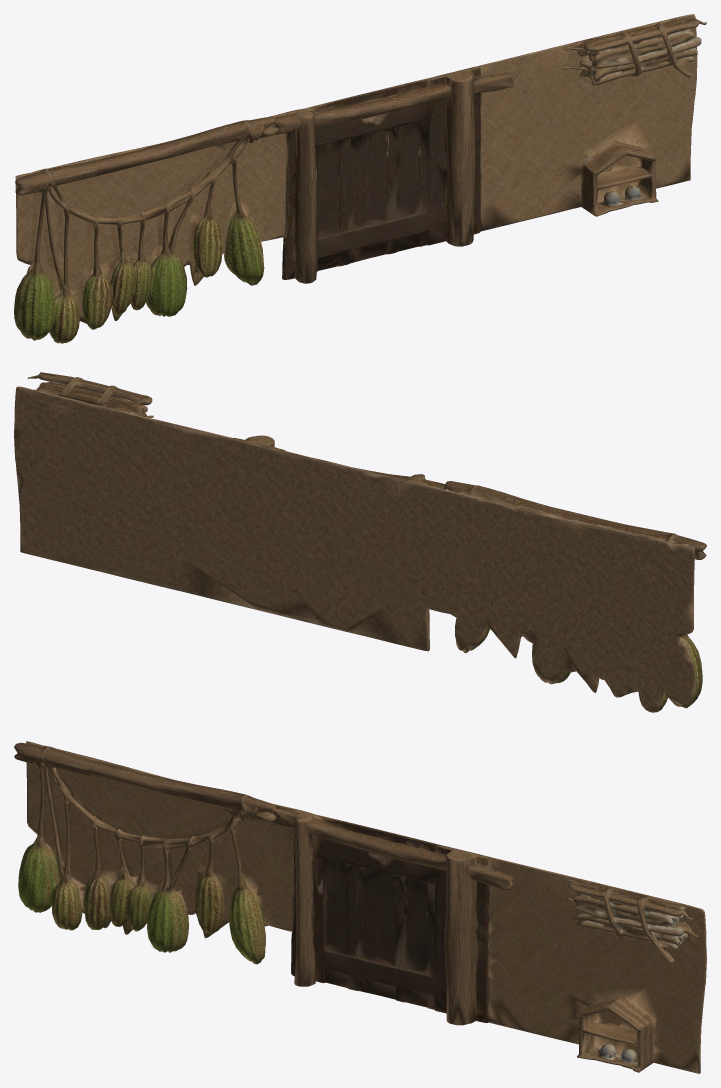
File: kakaoplantage.glb
The picture shows the model from 3 angles, top to bottom: view 1: azimuth 30°, elevation 25°; view 2: azimuth 150°, elevation 25°; view 3: azimuth 330°, elevation 25°; orthographic projection.
Size of the model in its own units: 1.9 by 0.4822 by 0.0927.
1 material, 1 textured.
